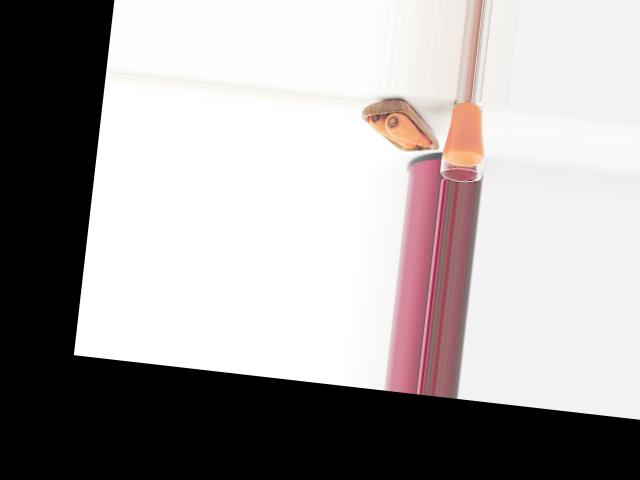carrot: (364, 111, 414, 148)
